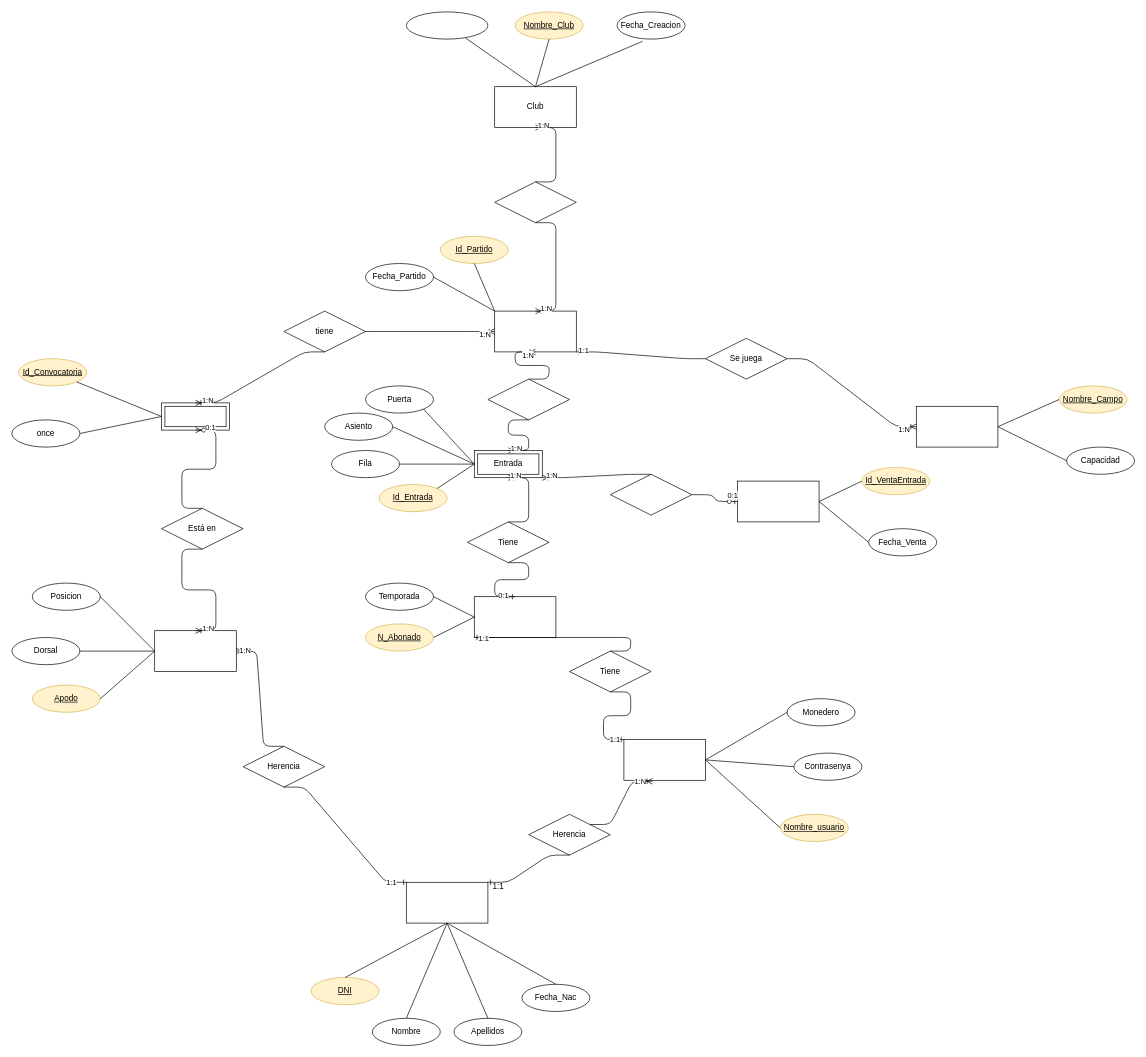
Image size: 1146x1057. Some labels were removed from this diagram. Each missing label, with the centre of its shape:
"Campo" belongs at (957,426).
"Carnet" belongs at (515,617).
"Convocatoria" belongs at (195,416).
"Hay" belongs at (528,399).
"juega" belongs at (535,202).
"Jugador" belongs at (195,651).
"Numero_Abonados" belongs at (447,25).
"Partido" belongs at (535,331).
"Persona" belongs at (447,902).
"Puede venderse" belongs at (651,494).
"Socio" belongs at (664,759).
"Venta de entrada" belongs at (778,501).
